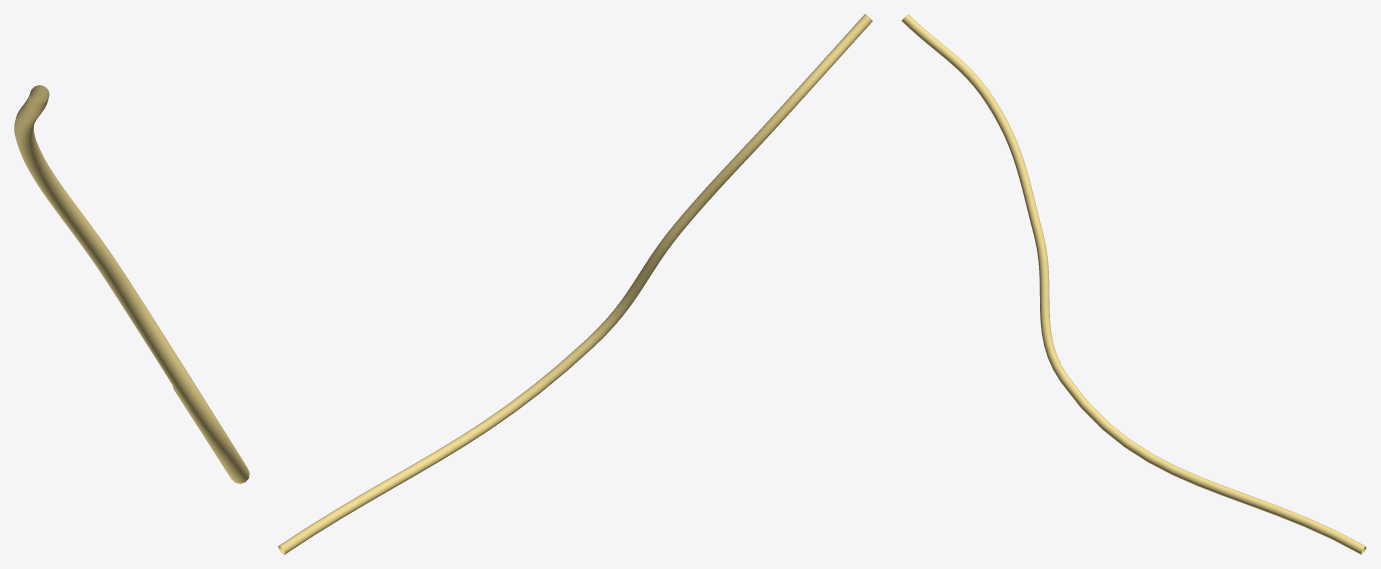
The picture shows the model from 3 angles, left to right: view 1: azimuth 30°, elevation 25°; view 2: azimuth 150°, elevation 25°; view 3: azimuth 270°, elevation 25°; orthographic projection. The views are drawn at different scales.
Parts seen in each view (by area): view 1: ZA_5fcebe956790652f; view 2: ZA_5fcebe956790652f; view 3: ZA_5fcebe956790652f.
Part boxes in pixels (box(x1,y1,x2,y2)): ZA_5fcebe956790652f: box(14, 85, 249, 483); ZA_5fcebe956790652f: box(278, 14, 872, 554); ZA_5fcebe956790652f: box(901, 14, 1366, 554).
Bounding box in the file's own units: 0.0363 × 0.0443 × 0.0473.
